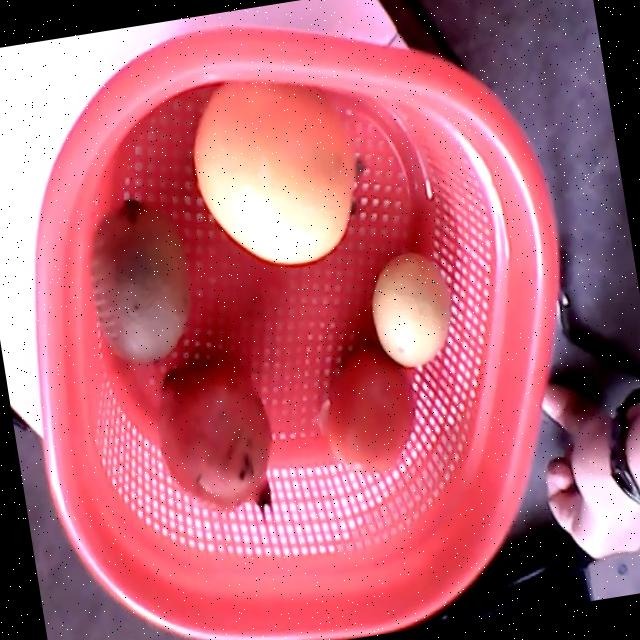lemon: (371, 251, 448, 366)
orange: (194, 82, 357, 263), (89, 200, 189, 361)
pomegranate: (159, 355, 271, 511)
tomato: (326, 347, 414, 473)
